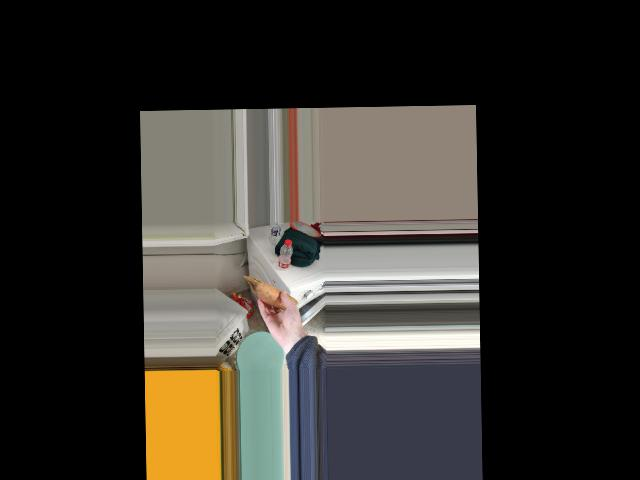sweet_potato: (259, 283, 292, 312)
